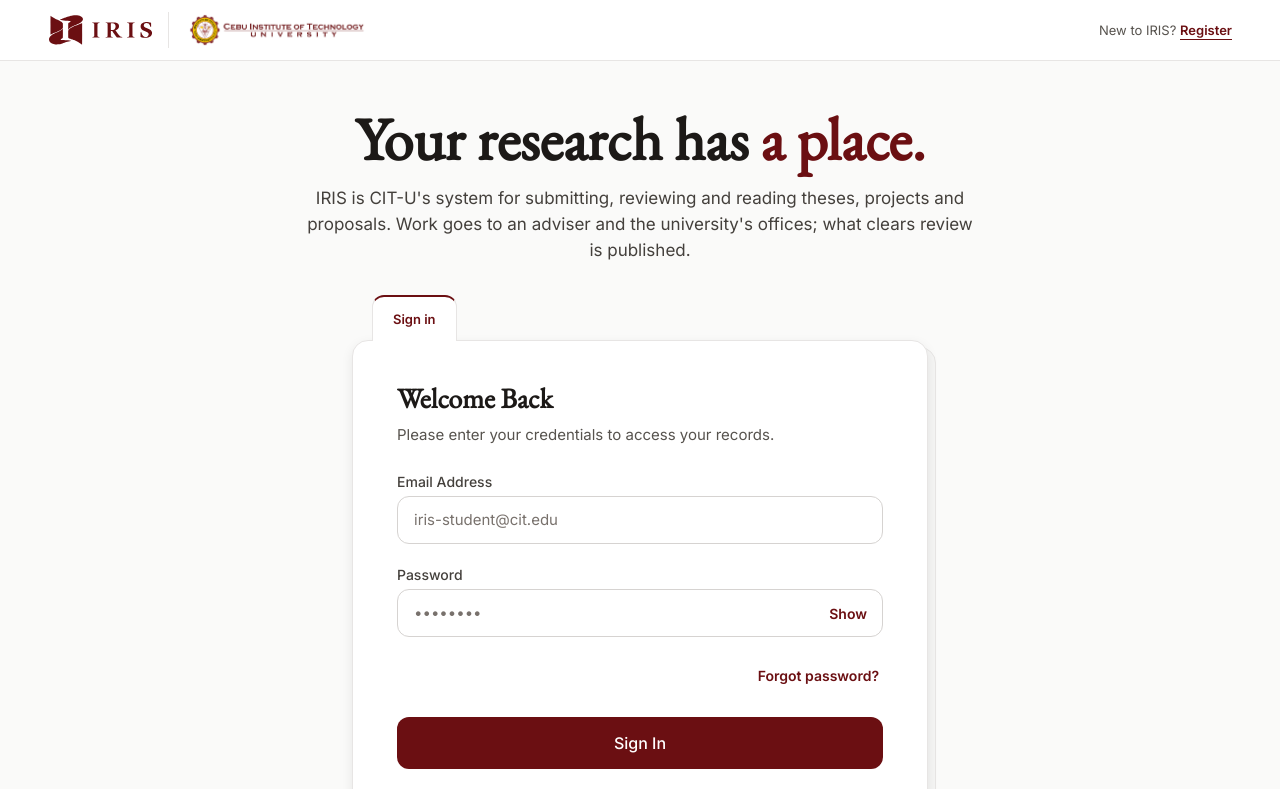
it: what a failed sign-in says › asks for the email to be verified on a 403 'not verified'
Type "student@cit.edu" into the field labelled "Email Address". click: (640, 520)
box: [397,496,883,544]
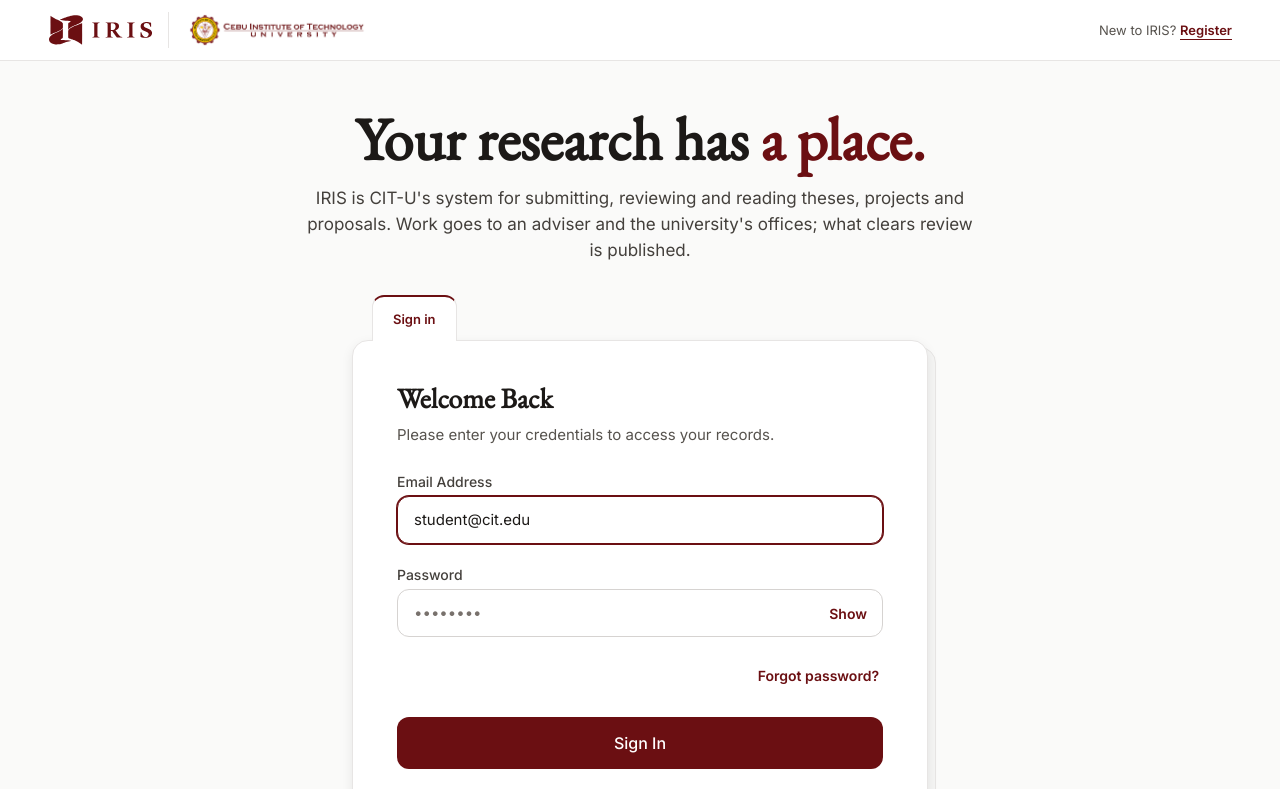
Type "IrisDemo123!" into the password field labelled "Password". click: (640, 613)
box: [397,589,883,637]
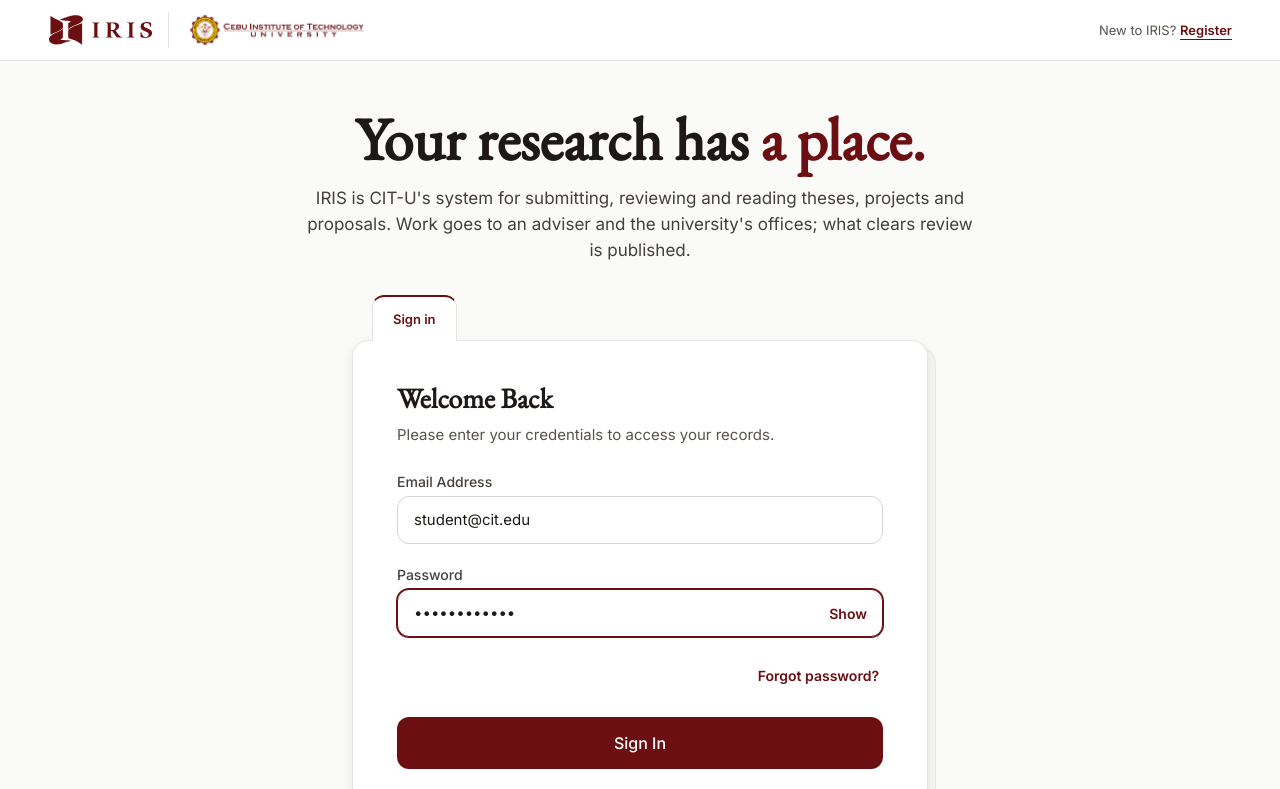
Click the button "Sign In". click: (640, 743)
box: [397,717,883,769]
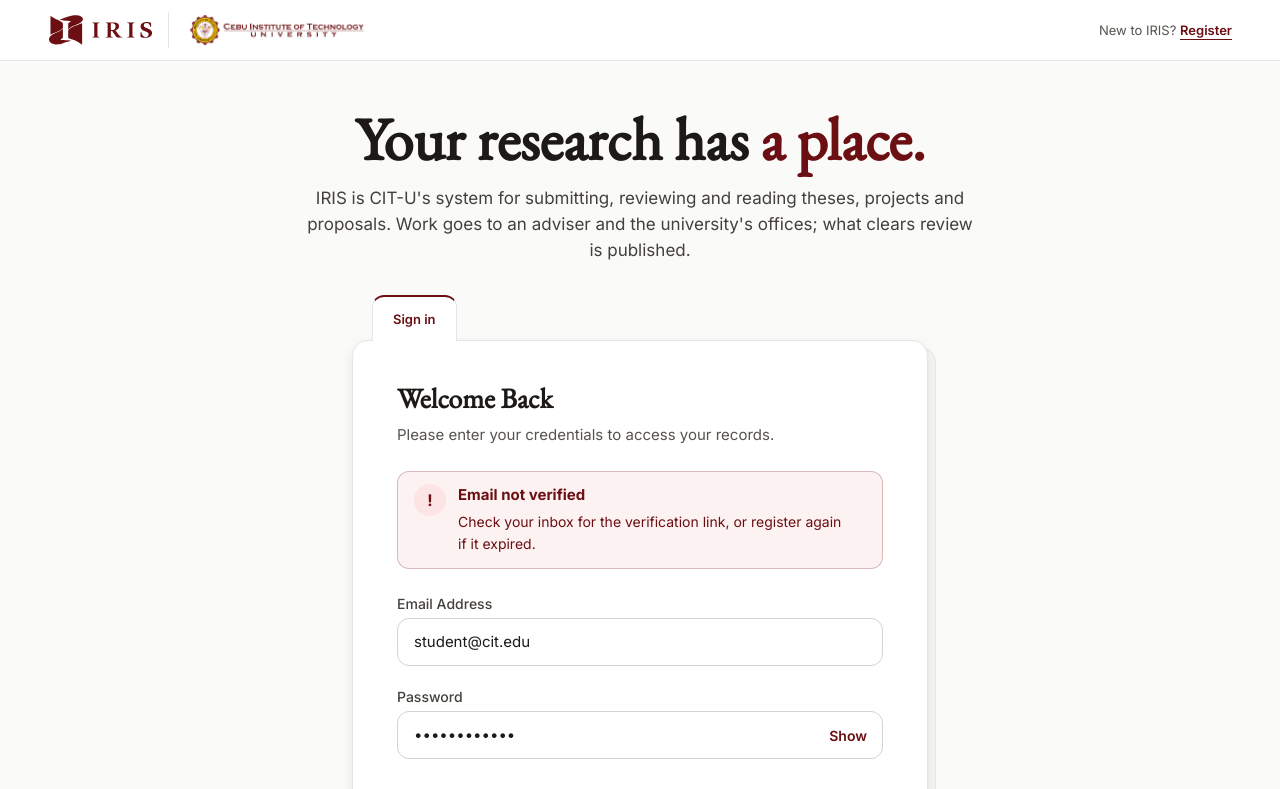
Expected: the message does not show "password", [397,471,883,569]
Expected: the message shows "Email not verified", [458,485,585,504]
